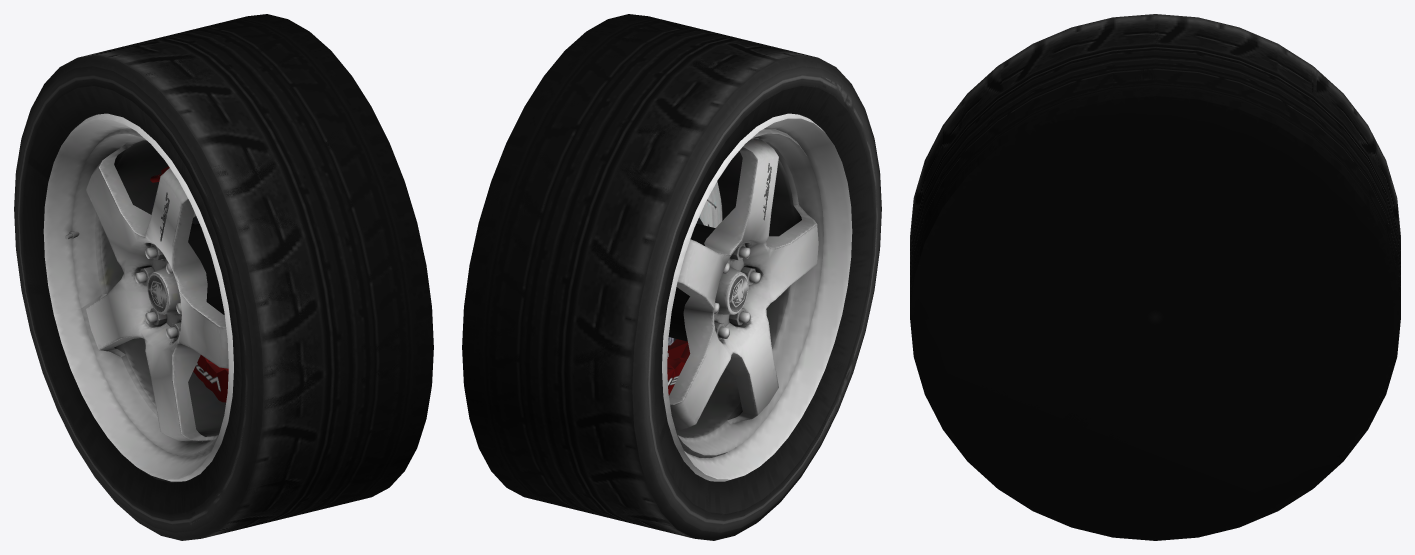
The model's file is ViperACR.fbx.
3 renders of one model, left to right at view 1: azimuth 30°, elevation 25°; view 2: azimuth 150°, elevation 25°; view 3: azimuth 270°, elevation 25°, orthographic.
Parts seen in each view (by area): view 1: Tirefl_garage, Tirefr_garage, Rimfl_garage_vcolor, support_fl_vcolor, Rimfl_garage_lable, Rimfr_garage_vcolor; view 2: Tirefr_garage, Tirefl_garage, Rimfl_garage_vcolor, Rimfr_garage_vcolor, brake_disk_fl_garage, support_fl_vcolor, Rimfl_garage_lable; view 3: Tirefr_garage, Tirefl_garage, Tire_LP_fr_garage, Tire_LP_fl_garage.
Part boxes in pixels (x1,y1,x2,y2): Tirefl_garage: (14,18,433,540); Tirefr_garage: (14,14,433,538); Rimfl_garage_vcolor: (43,113,233,481); support_fl_vcolor: (193,355,228,402); Rimfl_garage_lable: (148,192,169,311); Rimfr_garage_vcolor: (188,223,214,273); Tirefr_garage: (462,14,881,540); Tirefl_garage: (462,19,881,532); Rimfl_garage_vcolor: (662,113,852,481); Rimfr_garage_vcolor: (669,223,715,336); brake_disk_fl_garage: (668,181,722,345); support_fl_vcolor: (667,339,690,395); Rimfl_garage_lable: (729,163,771,311); Tirefr_garage: (910,14,1400,540); Tirefl_garage: (910,14,1400,540); Tire_LP_fr_garage: (968,150,1344,481); Tire_LP_fl_garage: (966,150,1338,448).
Bounding box in the file's own units: 1.11 × 2.63 × 2.63.
